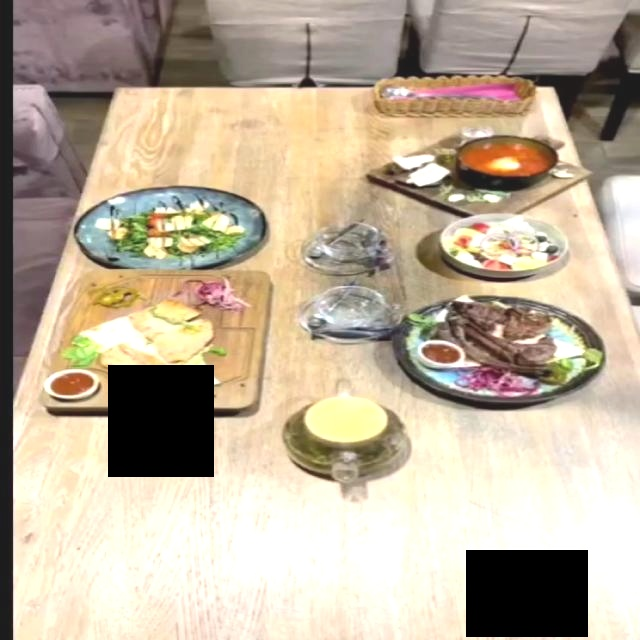meat: (32, 267, 285, 412), (389, 295, 606, 404)
salad: (71, 185, 265, 267), (439, 212, 571, 277)
soup: (387, 132, 572, 205)
tea: (280, 396, 409, 481)
